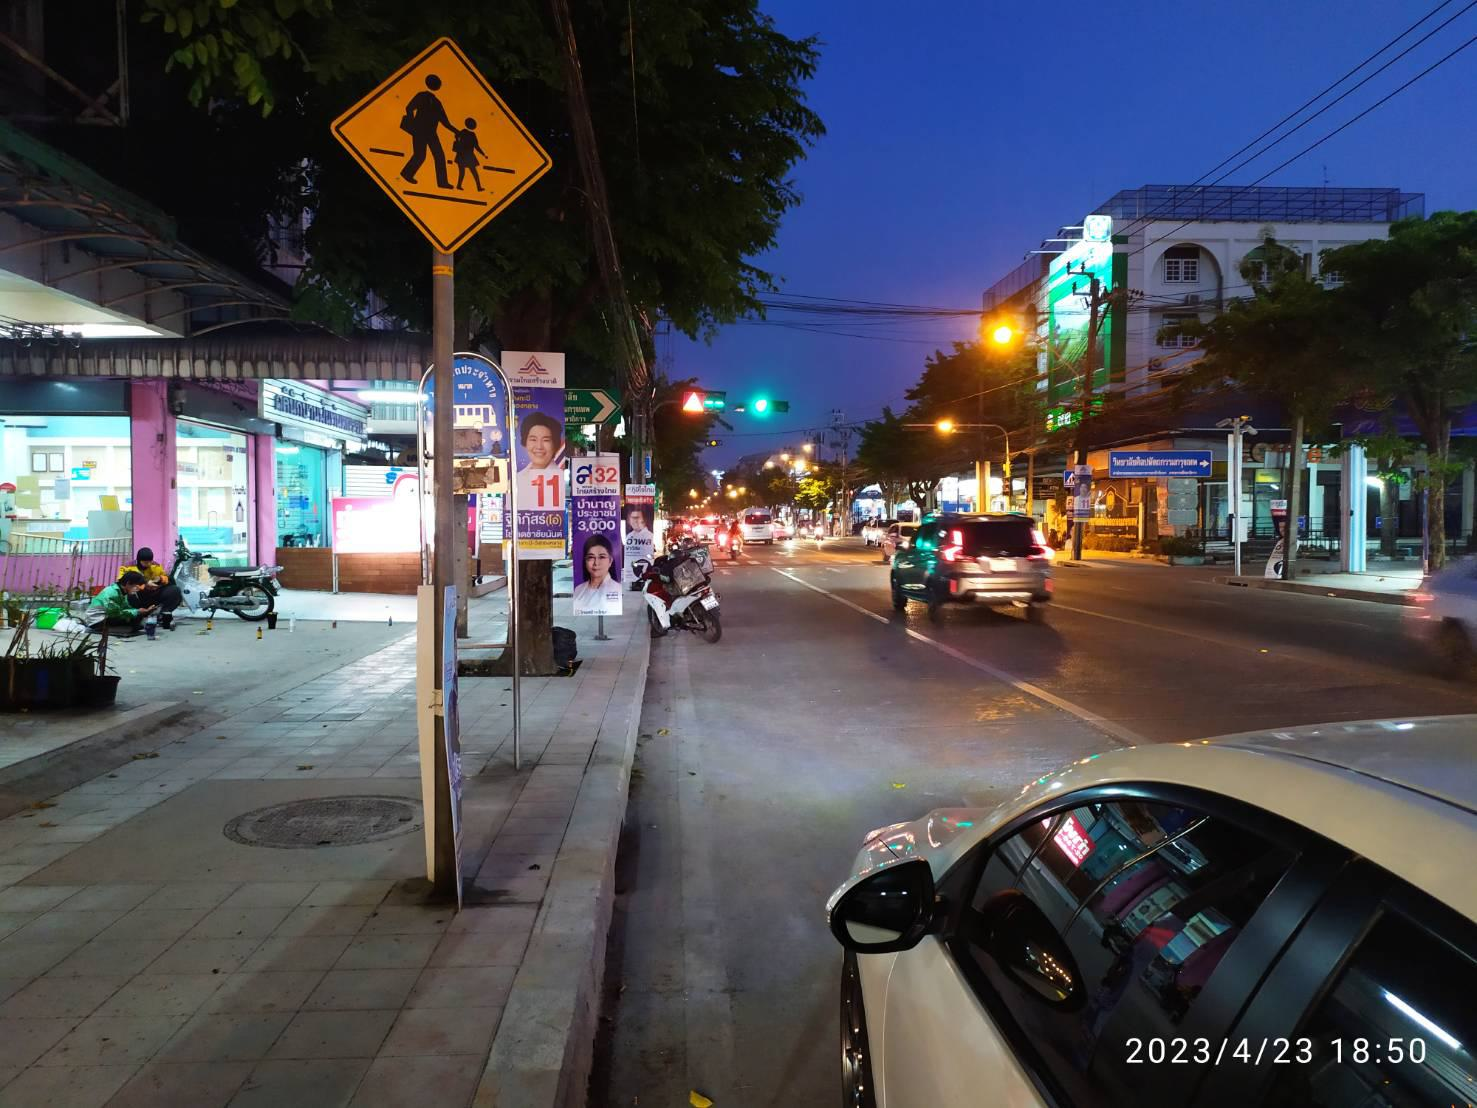Banner: (500, 345, 567, 561), (567, 452, 623, 617), (623, 484, 656, 570)
